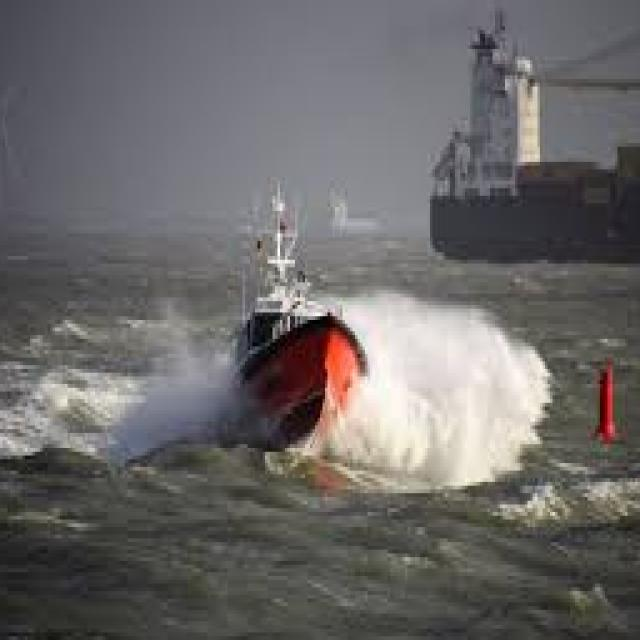buoy: (583, 352, 630, 448)
cargoship: (430, 8, 640, 252)
houseboat: (217, 158, 357, 451)
